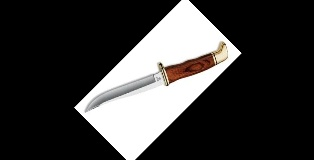k1: (83, 59, 171, 113)
